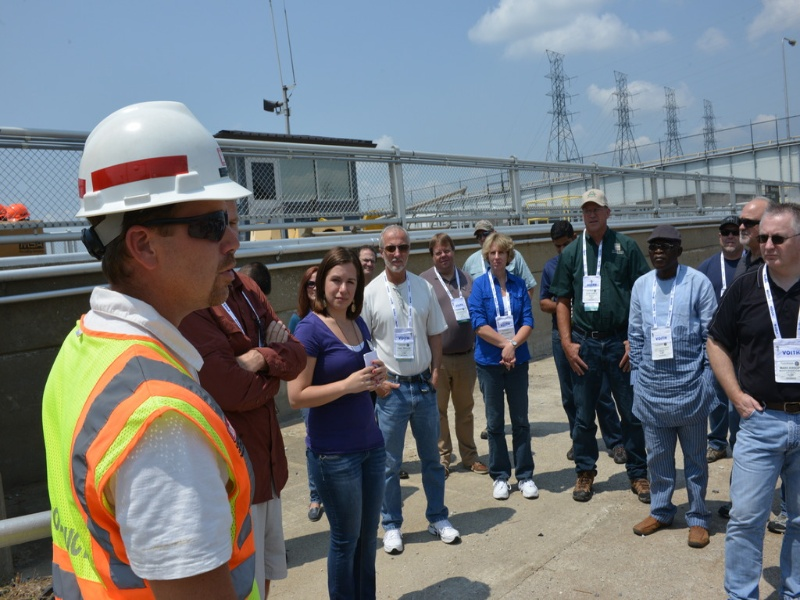Baret: (76, 100, 254, 210)
